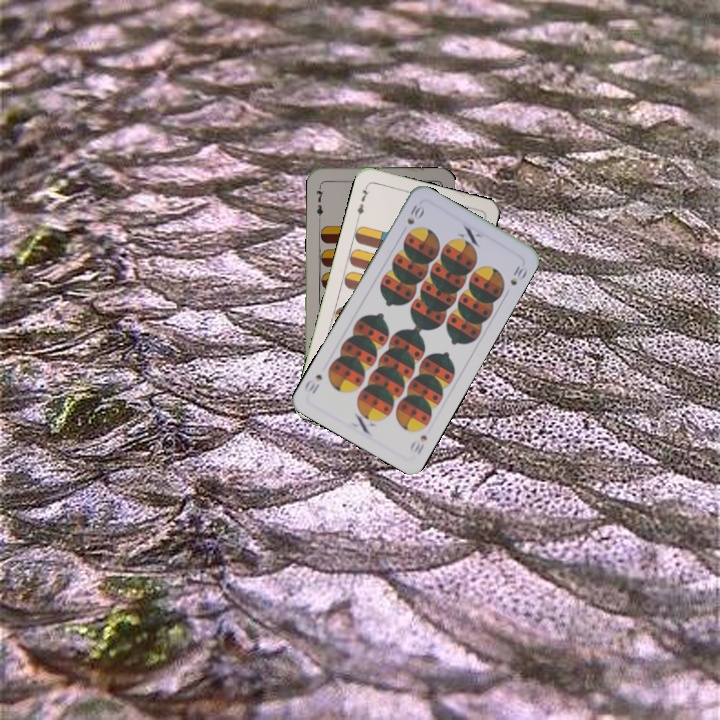E7: (353, 181, 371, 221), (312, 180, 326, 221)
S10: (403, 200, 427, 227), (406, 431, 430, 457)
